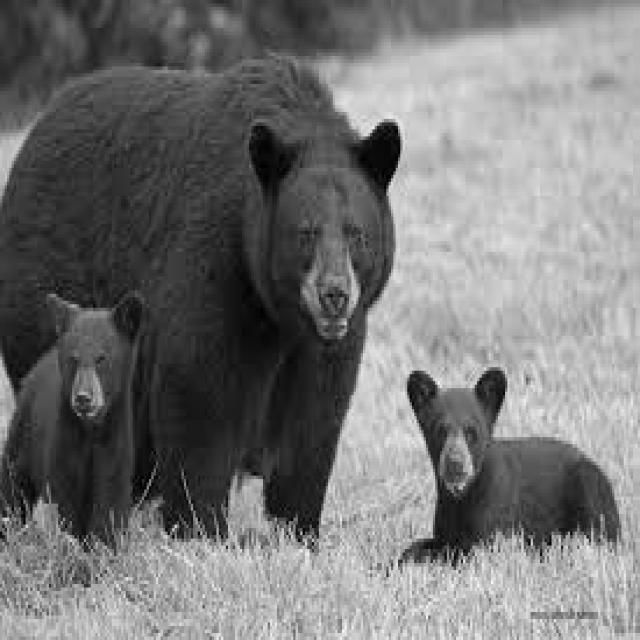Bear: (202, 85, 404, 408), (17, 296, 166, 538), (415, 366, 613, 548)
